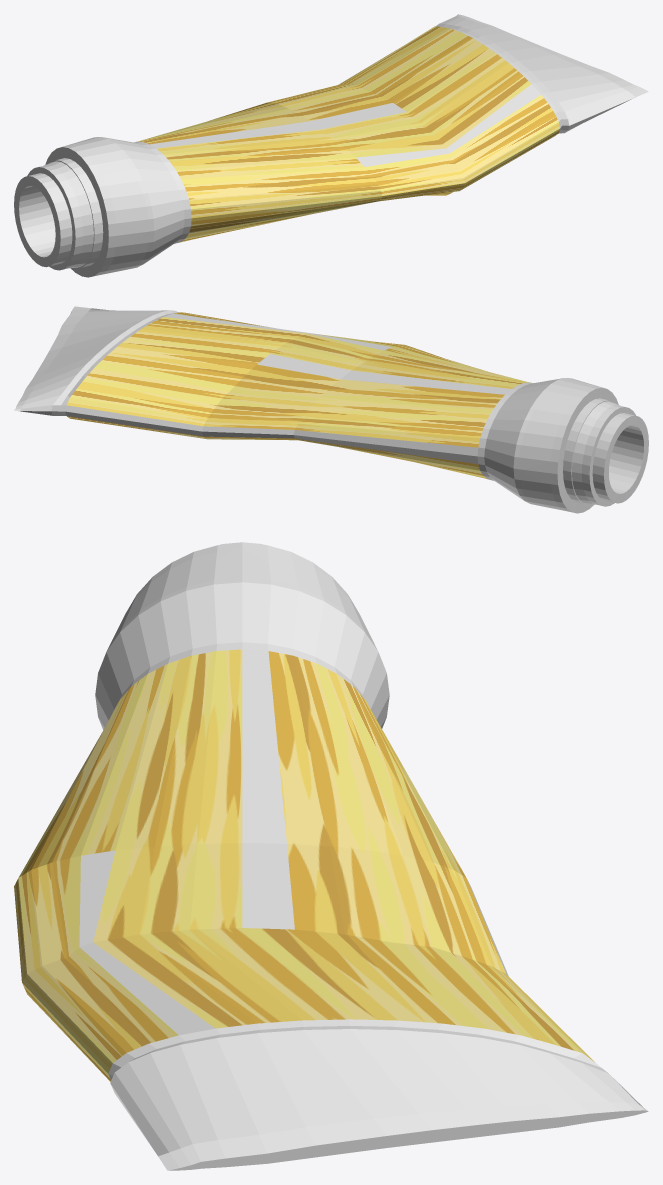
The model's file is pintura.fbx.
3 views of the same model, one above another, from view 1: azimuth 30°, elevation 25°; view 2: azimuth 150°, elevation 25°; view 3: azimuth 270°, elevation 25° (orthographic). The views are drawn at different scales.
Parts seen in each view (by area): view 1: Cilindro.021; view 2: Cilindro.021; view 3: Cilindro.021.
Boxes of the visible parts, x1,y1,x2,y2 form: Cilindro.021: (14,14,648,277); Cilindro.021: (14,306,648,513); Cilindro.021: (14,542,648,1170).
Size of the model in its own units: 62.63 by 12.24 by 30.66.
